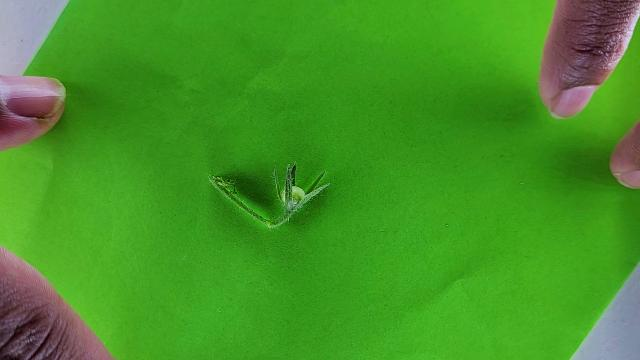Fruit Bud: (276, 163, 325, 208)
